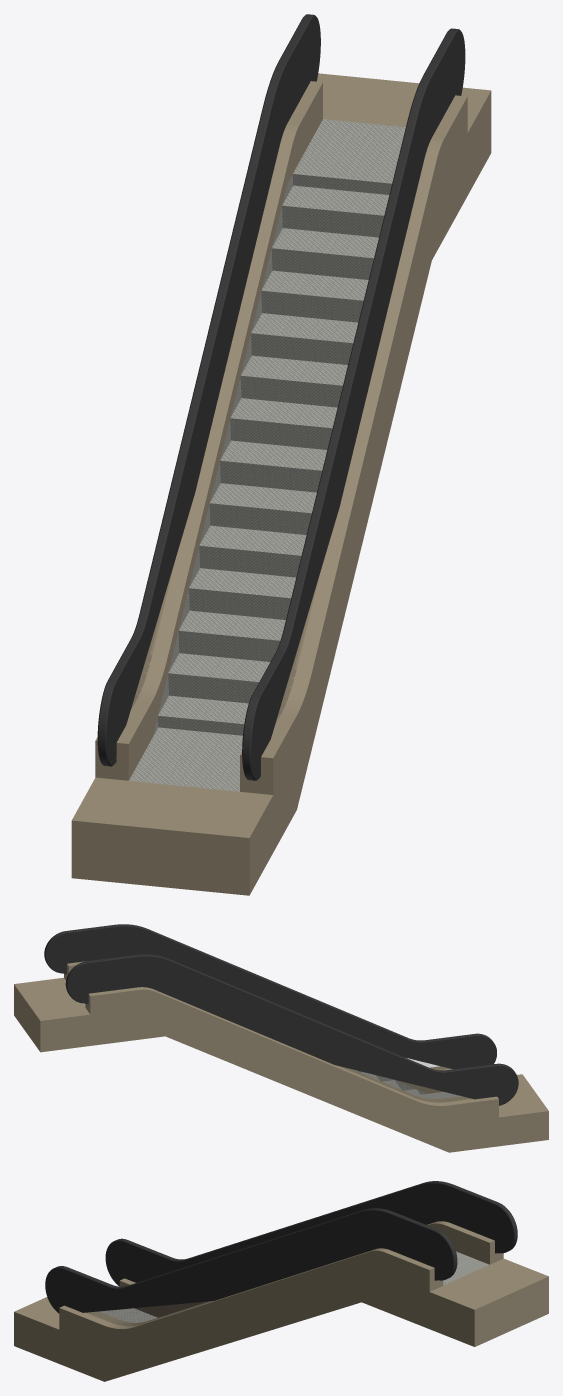
The model's file is Yürüyen merdiven.fbx.
3 renders of one model, top to bottom at view 1: azimuth 30°, elevation 25°; view 2: azimuth 150°, elevation 25°; view 3: azimuth 270°, elevation 25°, orthographic. The views are drawn at different scales.
Visible parts, largest first — view 1: Group6, Group2, Group11, Group5, Group9, Group3, Group8, Group7; view 2: Group2, Group11, Group5, Group9, Group8, Group10, Group6, Group3; view 3: Group2, Group5, Group11, Group3, Group8, Group9, Group4, Group6.
Boxes of the visible parts, box(x1,y1,x2,y2) form: Group6: box(129, 119, 405, 791); Group2: box(71, 91, 491, 895); Group11: box(97, 14, 320, 766); Group5: box(242, 28, 465, 780); Group9: box(95, 81, 322, 780); Group3: box(240, 95, 467, 794); Group8: box(72, 73, 490, 837); Group7: box(153, 174, 293, 736); Group2: box(14, 984, 548, 1152); Group11: box(65, 954, 518, 1105); Group5: box(44, 924, 496, 1069); Group9: box(85, 987, 498, 1123); Group8: box(14, 977, 548, 1117); Group10: box(345, 1068, 469, 1101); Group6: box(82, 1003, 461, 1098); Group3: box(64, 961, 452, 1093); Group2: box(14, 1265, 548, 1381); Group5: box(45, 1208, 457, 1313); Group11: box(105, 1181, 517, 1286); Group3: box(59, 1248, 443, 1347); Group8: box(14, 1258, 548, 1329); Group9: box(119, 1221, 503, 1317); Group4: box(89, 1302, 207, 1325); Group6: box(99, 1251, 489, 1322).
Bounding box in the file's own units: 7.54 × 4.51 × 7.89.
